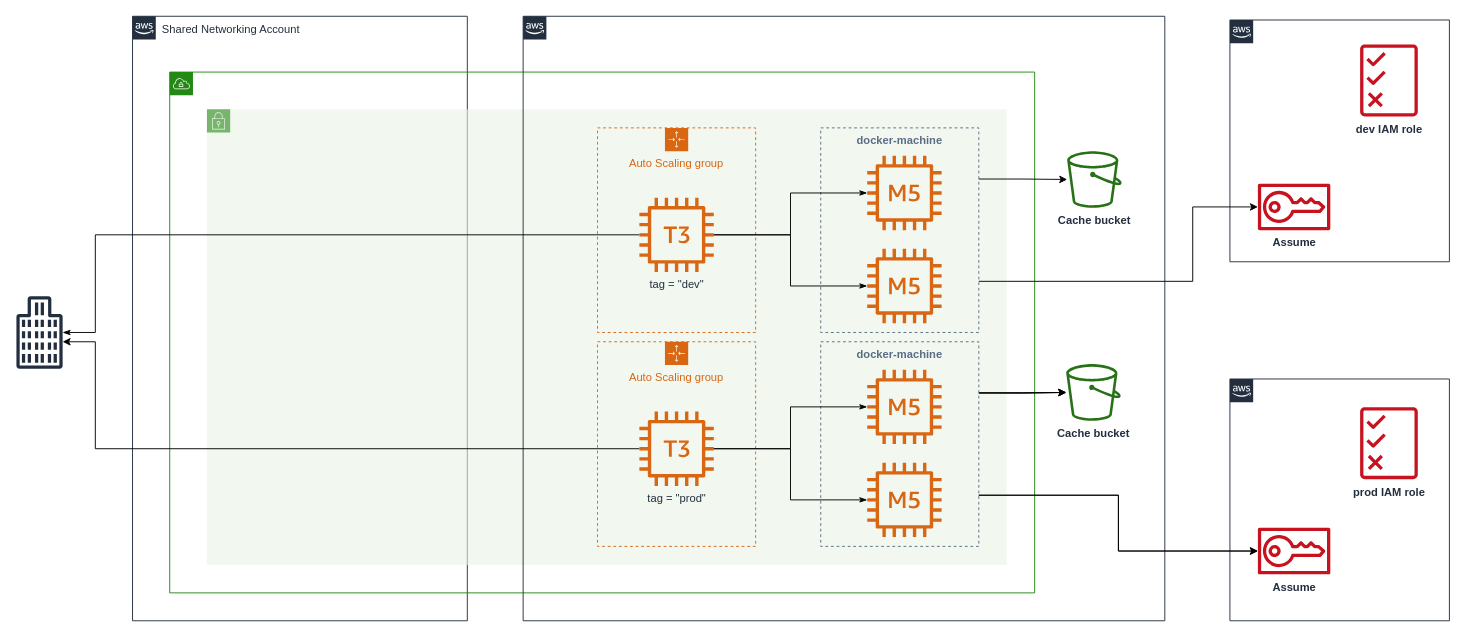
The diagram is 1466 pixels wide and 637 high, and some of its shapes have lost their labels. Here are the shapes that lost their labels. From the top down, the box of each, then its label:
(1229, 19, 1449, 262): Dev Account
(16, 296, 62, 368): Gitlab
(169, 71, 1035, 593): VPC
(206, 108, 1007, 565): Public subnet
(522, 15, 1165, 621): CI/CD Account
(1229, 378, 1449, 621): Prod Account
